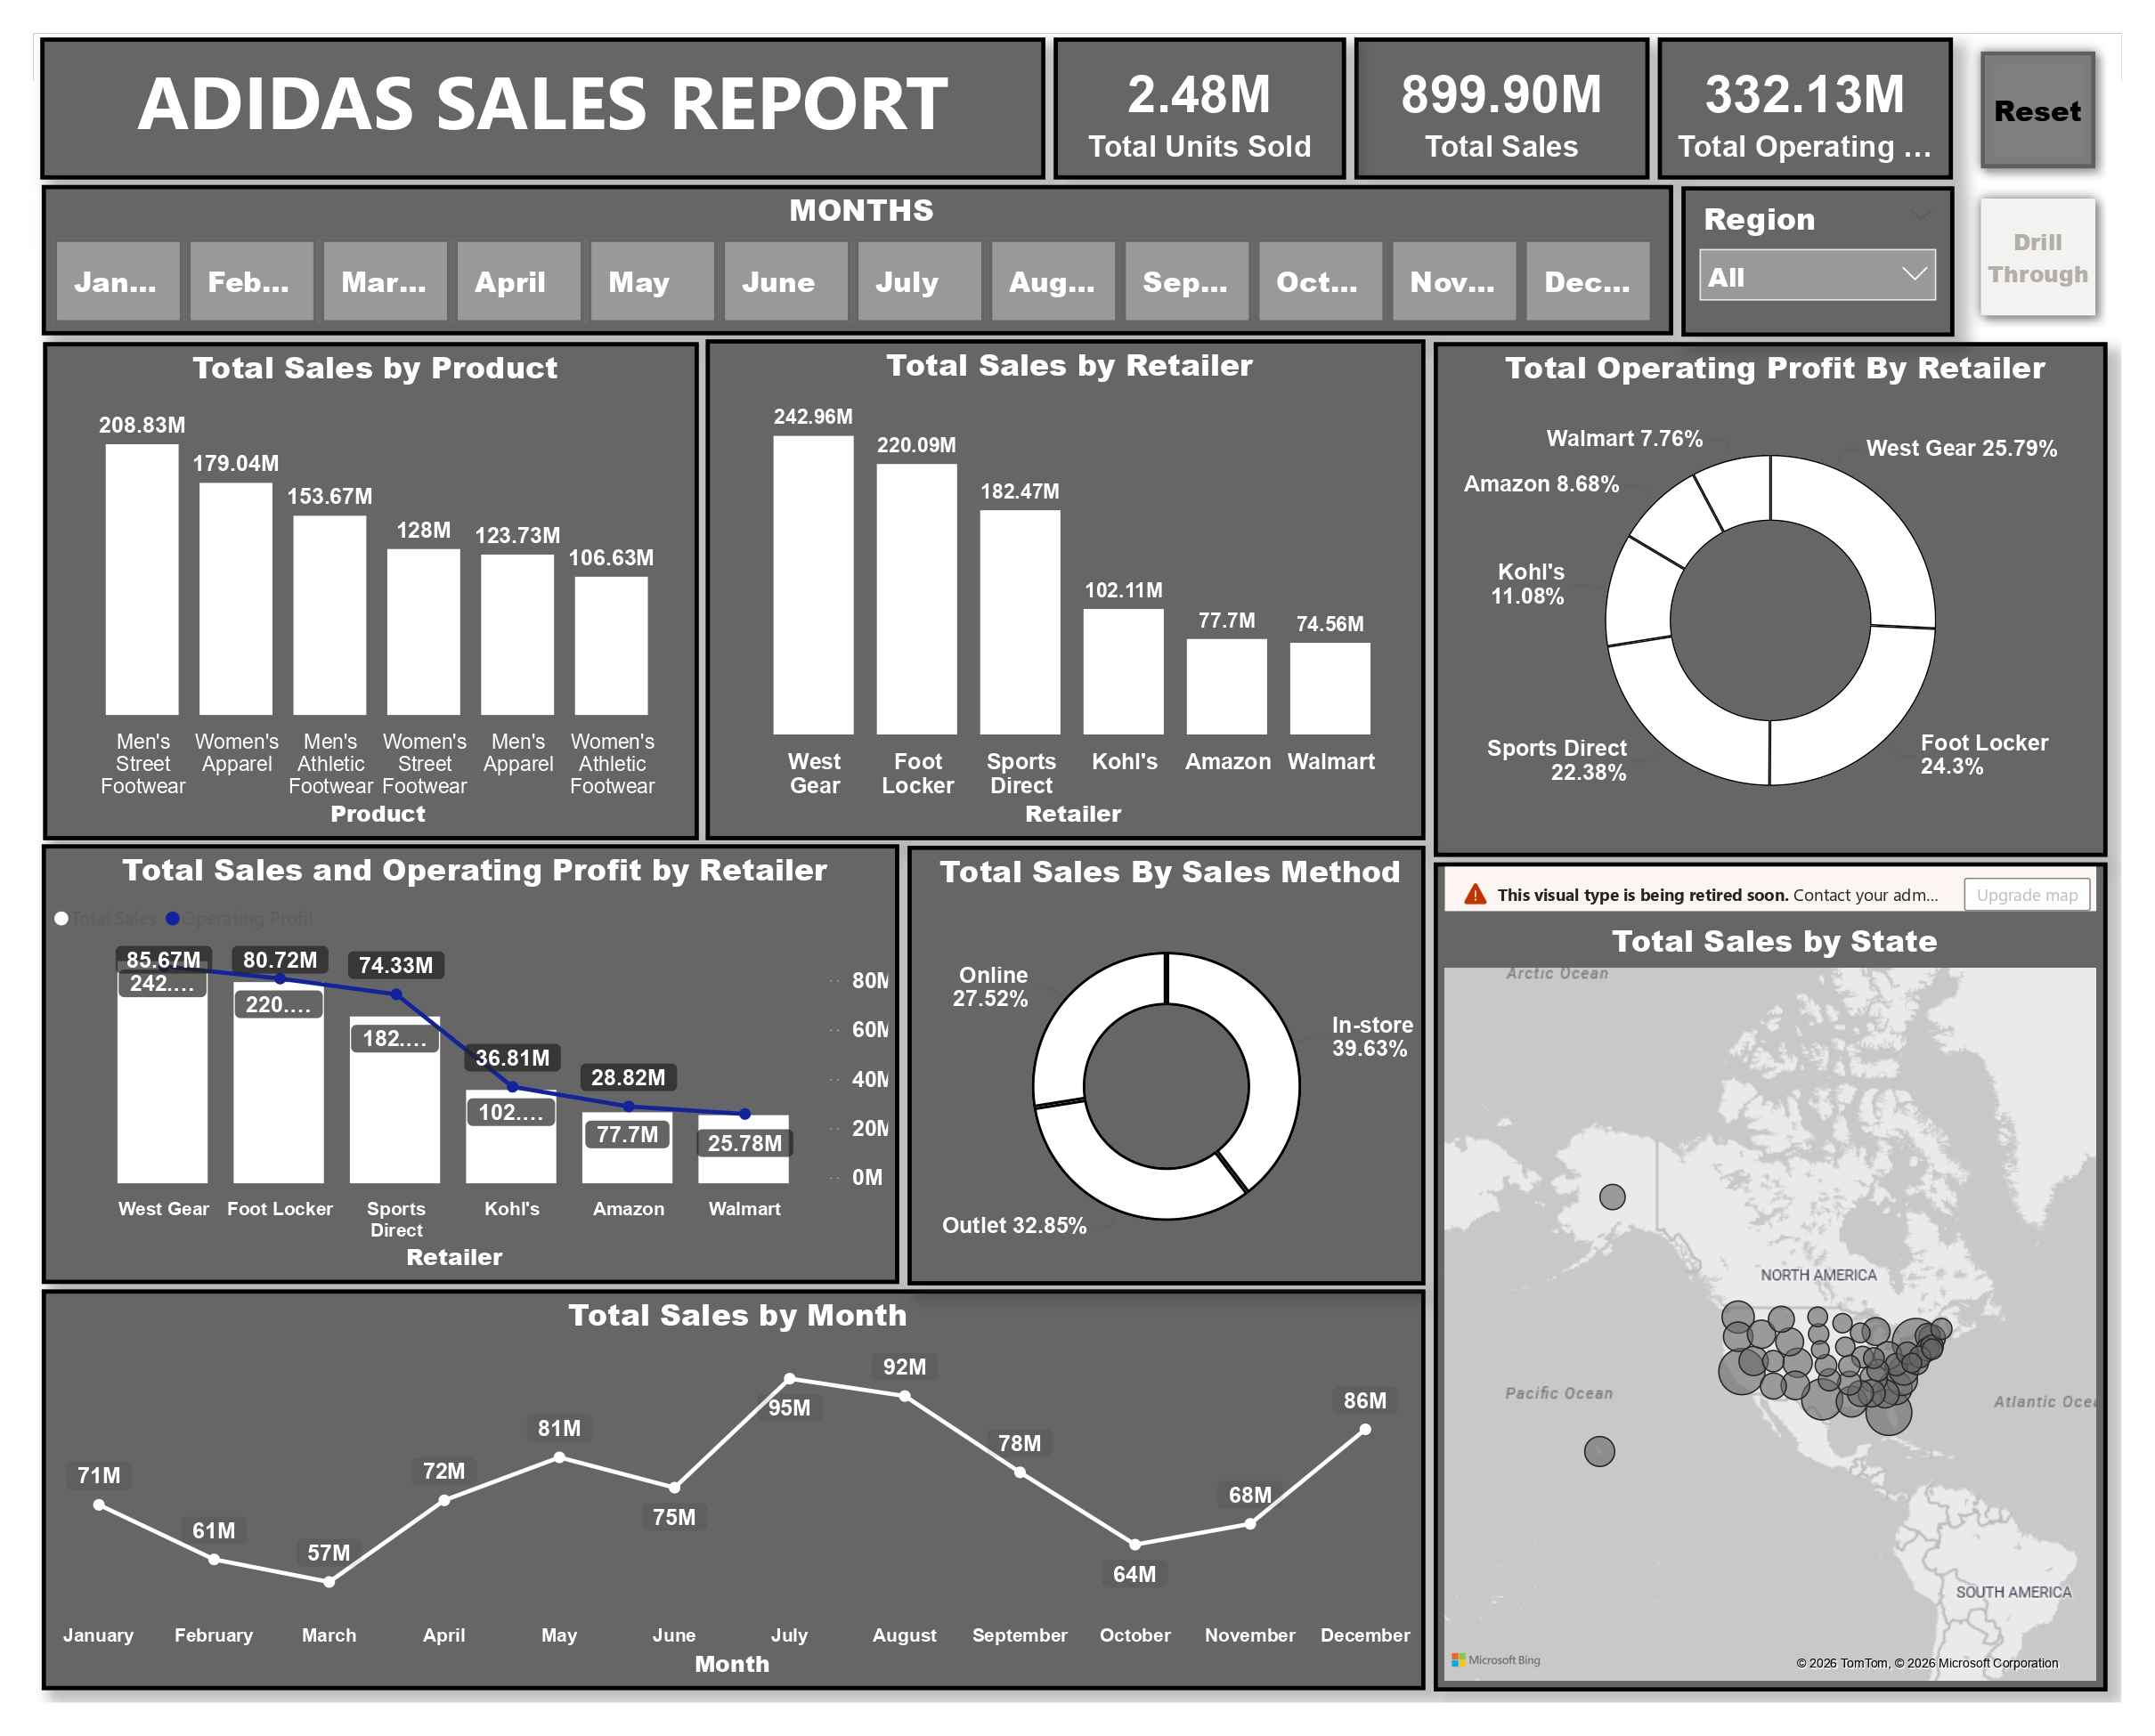

Layout of this report page (visuals, bound fields, positions):
{"tool":"powerbi","page":{"name":"Report Page","canvas":[1500,1200],"ordinal":0},"visuals":[{"type":"textbox","box":[5,3,721.7,101.7],"z":0},{"type":"card","fields":{"Values":["Sum(Sales Adidas.Total Sales)"]},"box":[949,3,212,102],"z":1000},{"type":"card","fields":{"Values":["Sum(Sales Adidas.Units Sold)"]},"box":[733,3,210,102],"z":2000},{"type":"card","fields":{"Values":["Sum(Sales Adidas.Operating Profit)"]},"box":[1167,3,212,102],"z":3000},{"type":"advancedSlicerVisual","title":"MONTHS","fields":{"Values":["Date_Master_table.Date.Variation.Date Hierarchy.Month"]},"box":[6,109,1172,108],"z":4000},{"type":"columnChart","title":"Total Sales by Product","fields":{"Category":["Sales Adidas.Product"],"Y":["Sum(Sales Adidas.Total Sales)"]},"box":[6.7,221.7,471.7,358.3],"z":5000},{"type":"columnChart","title":"Total Sales by Retailer","fields":{"Y":["Sum(Sales Adidas.Total Sales)"],"Category":["Sales Adidas.Retailer"]},"box":[483.3,220,516.7,360],"z":6000},{"type":"donutChart","title":"Total Operating Profit By Retailer","fields":{"Y":["Sum(Sales Adidas.Operating Profit)"],"Category":["Sales Adidas.Retailer"]},"box":[1006,222,484,370],"z":7000},{"type":"slicer","fields":{"Values":["Sales Adidas.Region"]},"box":[1184,110,196,108],"z":8000},{"type":"lineStackedColumnComboChart","fields":{"Category":["Sales Adidas.Retailer"],"Y":["Sum(Sales Adidas.Total Sales)"],"Y2":["Sum(Sales Adidas.Operating Profit)"]},"box":[6,583,616,316],"z":9000},{"type":"lineChart","fields":{"Y":["Sum(Sales Adidas.Total Sales)"],"Category":["Date_Master_table.Date.Variation.Date Hierarchy.Year","Date_Master_table.Date.Variation.Date Hierarchy.Quarter","Date_Master_table.Date.Variation.Date Hierarchy.Month","Date_Master_table.Date.Variation.Date Hierarchy.Day"]},"box":[6,903,994,288],"z":10000},{"type":"donutChart","title":"Total Sales By Sales Method ","fields":{"Category":["Sales Adidas.Sales Method"],"Y":["Sum(Sales Adidas.Total Sales)"]},"box":[628,584,372,316],"z":11000},{"type":"map","fields":{"Size":["Sum(Sales Adidas.Total Sales)"],"Category":["Sales Adidas.State"]},"box":[1006,596,484,596],"z":12000},{"type":"actionButton","box":[1390,4,100,102],"z":13000},{"type":"actionButton","box":[1390,110,100,102],"z":14000}]}

Visuals, with their boxes on the page's 1500x1200 design canvas (x1, y1, x2, y2). These are canvas units, not pixel positions in the 2155x1736 screenshot, which may show the page scaled, cropped or inside an application window:
textbox: select_region(5, 3, 727, 105)
card - Sum(Sales Adidas.Total Sales): select_region(949, 3, 1161, 105)
card - Sum(Sales Adidas.Units Sold): select_region(733, 3, 943, 105)
card - Sum(Sales Adidas.Operating Profit): select_region(1167, 3, 1379, 105)
"MONTHS" advancedSlicerVisual: select_region(6, 109, 1178, 217)
"Total Sales by Product" columnChart: select_region(7, 222, 478, 580)
"Total Sales by Retailer" columnChart: select_region(483, 220, 1000, 580)
"Total Operating Profit By Retailer" donutChart: select_region(1006, 222, 1490, 592)
slicer - Sales Adidas.Region: select_region(1184, 110, 1380, 218)
lineStackedColumnComboChart - Sales Adidas.Retailer x Sum(Sales Adidas.Total Sales): select_region(6, 583, 622, 899)
lineChart - Sum(Sales Adidas.Total Sales) x Date_Master_table.Date.Variation.Date Hierarchy.Year: select_region(6, 903, 1000, 1191)
"Total Sales By Sales Method " donutChart: select_region(628, 584, 1000, 900)
map - Sum(Sales Adidas.Total Sales) x Sales Adidas.State: select_region(1006, 596, 1490, 1192)
actionButton: select_region(1390, 4, 1490, 106)
actionButton: select_region(1390, 110, 1490, 212)
